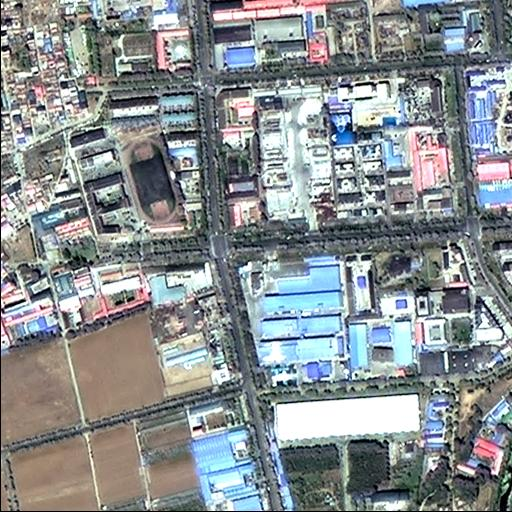school: (68, 113, 189, 238)
